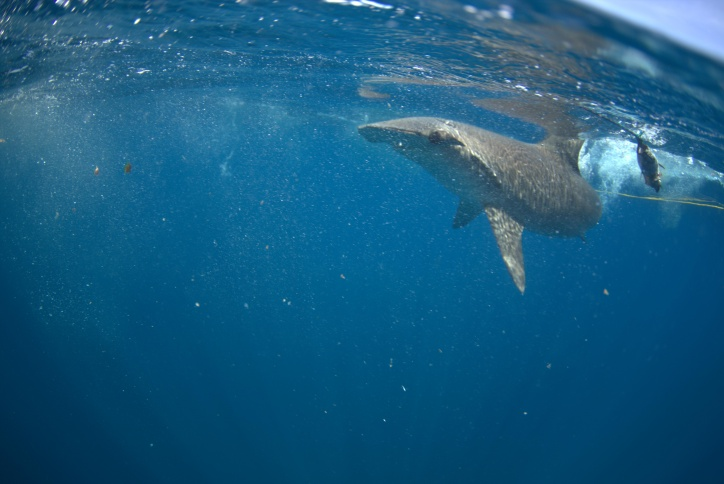Hammer: (337, 84, 627, 312)
